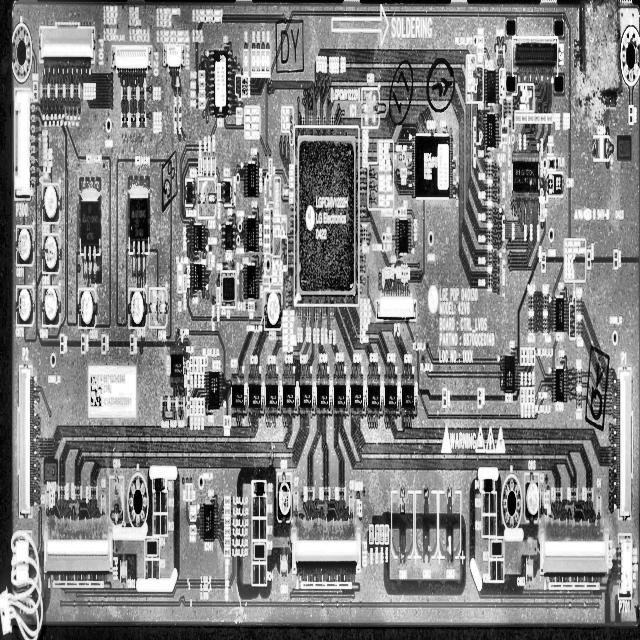PCB: (1, 0, 639, 640)
